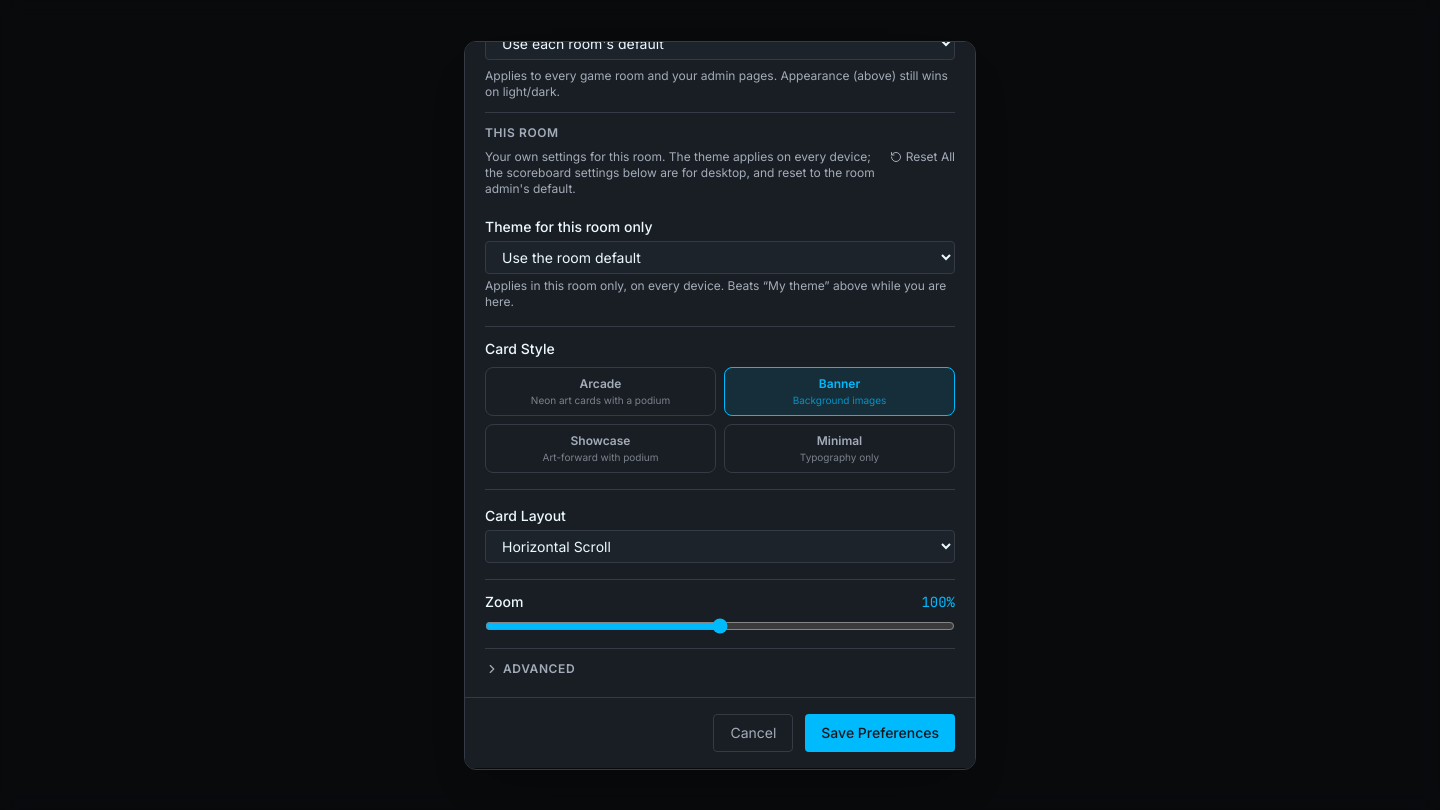
Test: ScoreboardPreferencesModal — P3 tiering › does not render demoted controls until Advanced is expanded
The image size is (1440, 810).
(page scrolled)
Expected: the text "Card Style" is shown, 485,338 -> 555,358
Expected: the text "Rankings Card Style" is not shown
Click the button "Advanced" at point(539, 669), box 485,657 -> 955,681
(page scrolled)
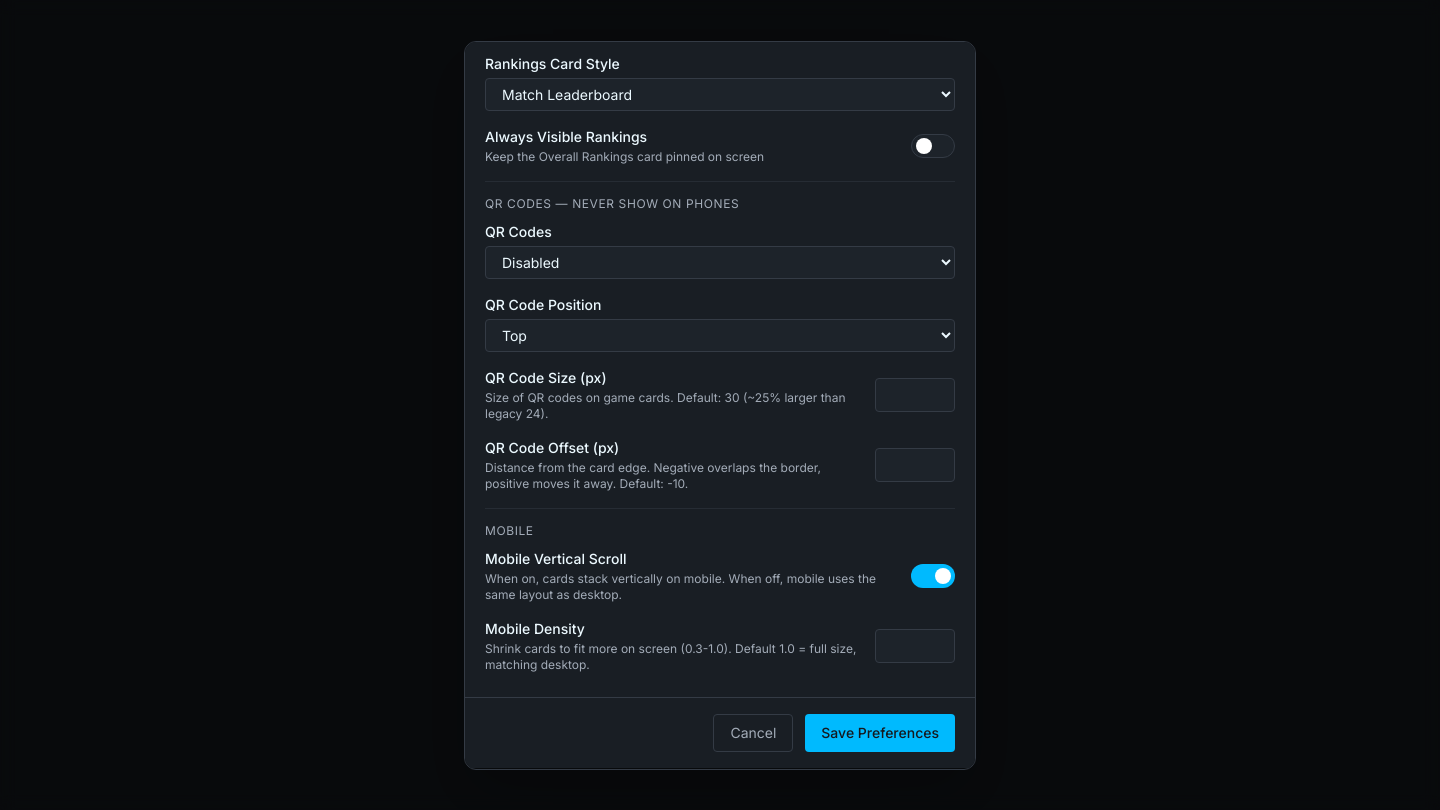
Now the text "Rankings Card Style" is shown, box 485,54 -> 620,74
Now the text "Always Visible Rankings" is shown, box 485,127 -> 647,147
Now the text "QR Codes" is shown, box 485,222 -> 552,242
